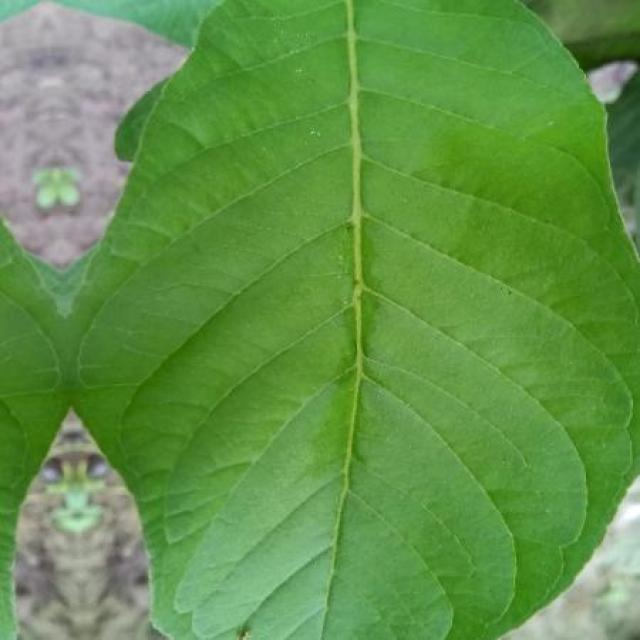Disease Free: (0, 0, 640, 640)
